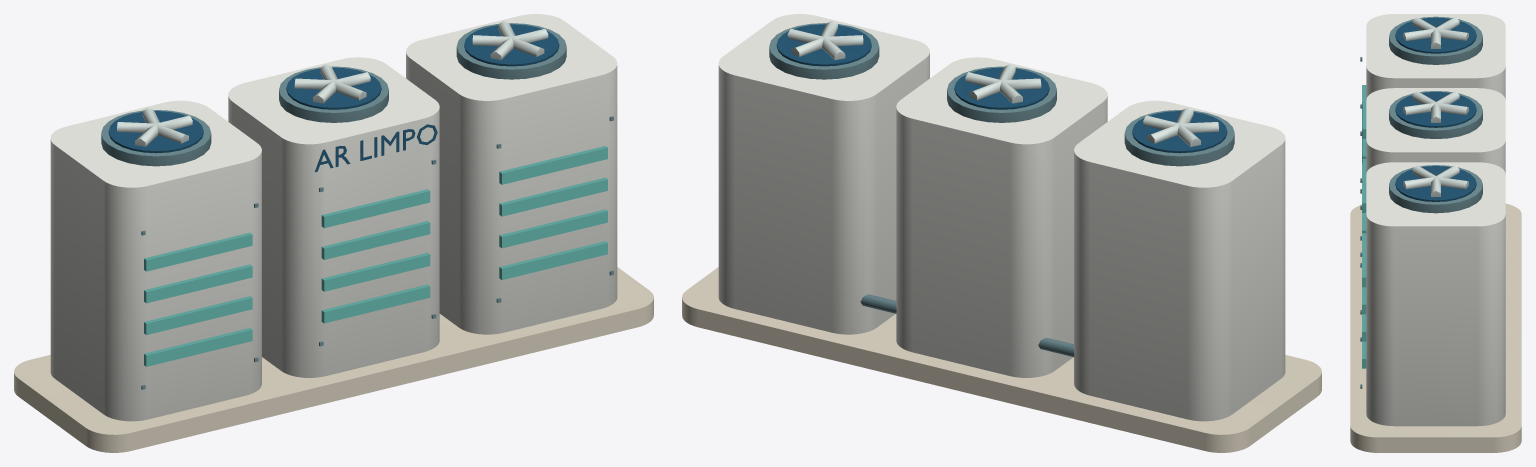
The model's file is air-treatment.glb.
3 views of the same model, side by side, from view 1: azimuth 30°, elevation 25°; view 2: azimuth 150°, elevation 25°; view 3: azimuth 270°, elevation 25° (orthographic). The views are drawn at different scales.
Parts seen in each view (by area): view 1: air filter enclosure, air treatment base, filter intake, identity AR LIMPO, filter exhaust rim, fan blade; view 2: air filter enclosure, air treatment base, filter exhaust rim, identity AR LIMPO, fan blade; view 3: air filter enclosure, air treatment base, filter exhaust rim, identity AR LIMPO, fan blade, filter intake.
Boxes of the visible parts, <box> form: air filter enclosure: <box>50,14,617,421</box>; air treatment base: <box>14,267,653,452</box>; filter intake: <box>144,146,607,366</box>; identity AR LIMPO: <box>108,24,559,172</box>; filter exhaust rim: <box>101,23,613,389</box>; fan blade: <box>117,21,548,146</box>; air filter enclosure: <box>718,14,1285,421</box>; air treatment base: <box>682,267,1321,452</box>; filter exhaust rim: <box>769,23,1234,356</box>; identity AR LIMPO: <box>776,24,1227,153</box>; fan blade: <box>787,21,1218,146</box>; air filter enclosure: <box>1366,14,1505,426</box>; air treatment base: <box>1350,203,1521,452</box>; filter exhaust rim: <box>1360,16,1482,388</box>; identity AR LIMPO: <box>1362,17,1476,201</box>; fan blade: <box>1403,17,1468,196</box>; filter intake: <box>1362,85,1366,368</box>.
Bounding box in the file's own units: 2.6 × 1.2 × 0.8.
